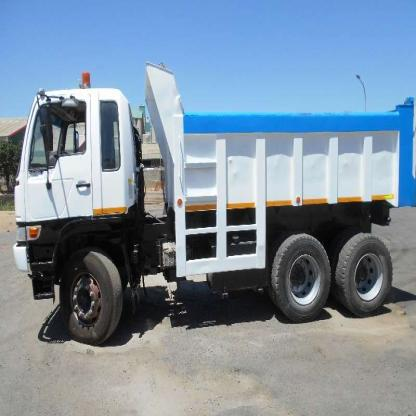dump_truck: (6, 45, 416, 348)
